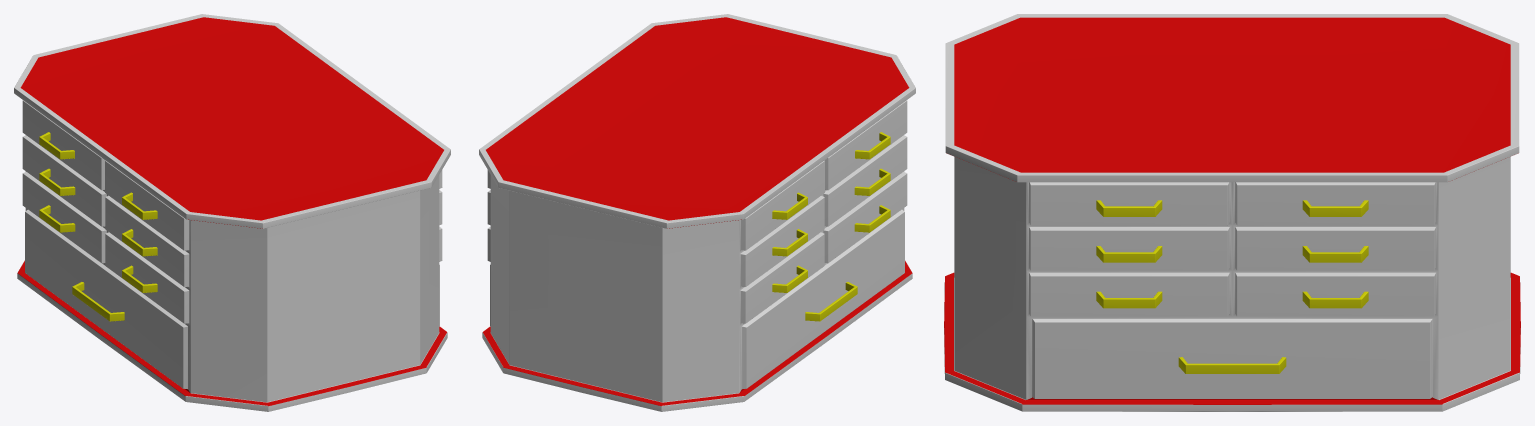
File: SM_ScienceTable.fbx
The picture shows the model from 3 angles, left to right: view 1: azimuth 30°, elevation 25°; view 2: azimuth 150°, elevation 25°; view 3: azimuth 270°, elevation 25°; orthographic projection. The views are drawn at different scales.
Visible parts, largest first — view 1: TableBase; view 2: TableBase; view 3: TableBase.
Part boxes in pixels (bbox=[...]): TableBase: bbox=[14, 14, 450, 411]; TableBase: bbox=[479, 14, 915, 411]; TableBase: bbox=[944, 14, 1520, 411].
Bounding box in the file's own units: 106 × 150 × 68.06.
